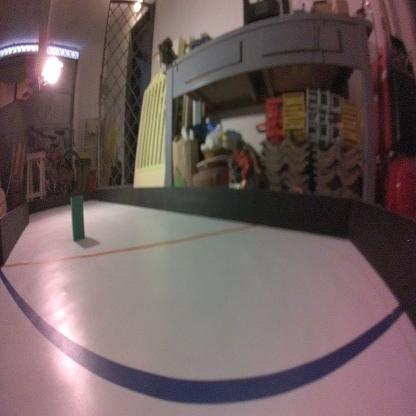green: (69, 194, 85, 240)
